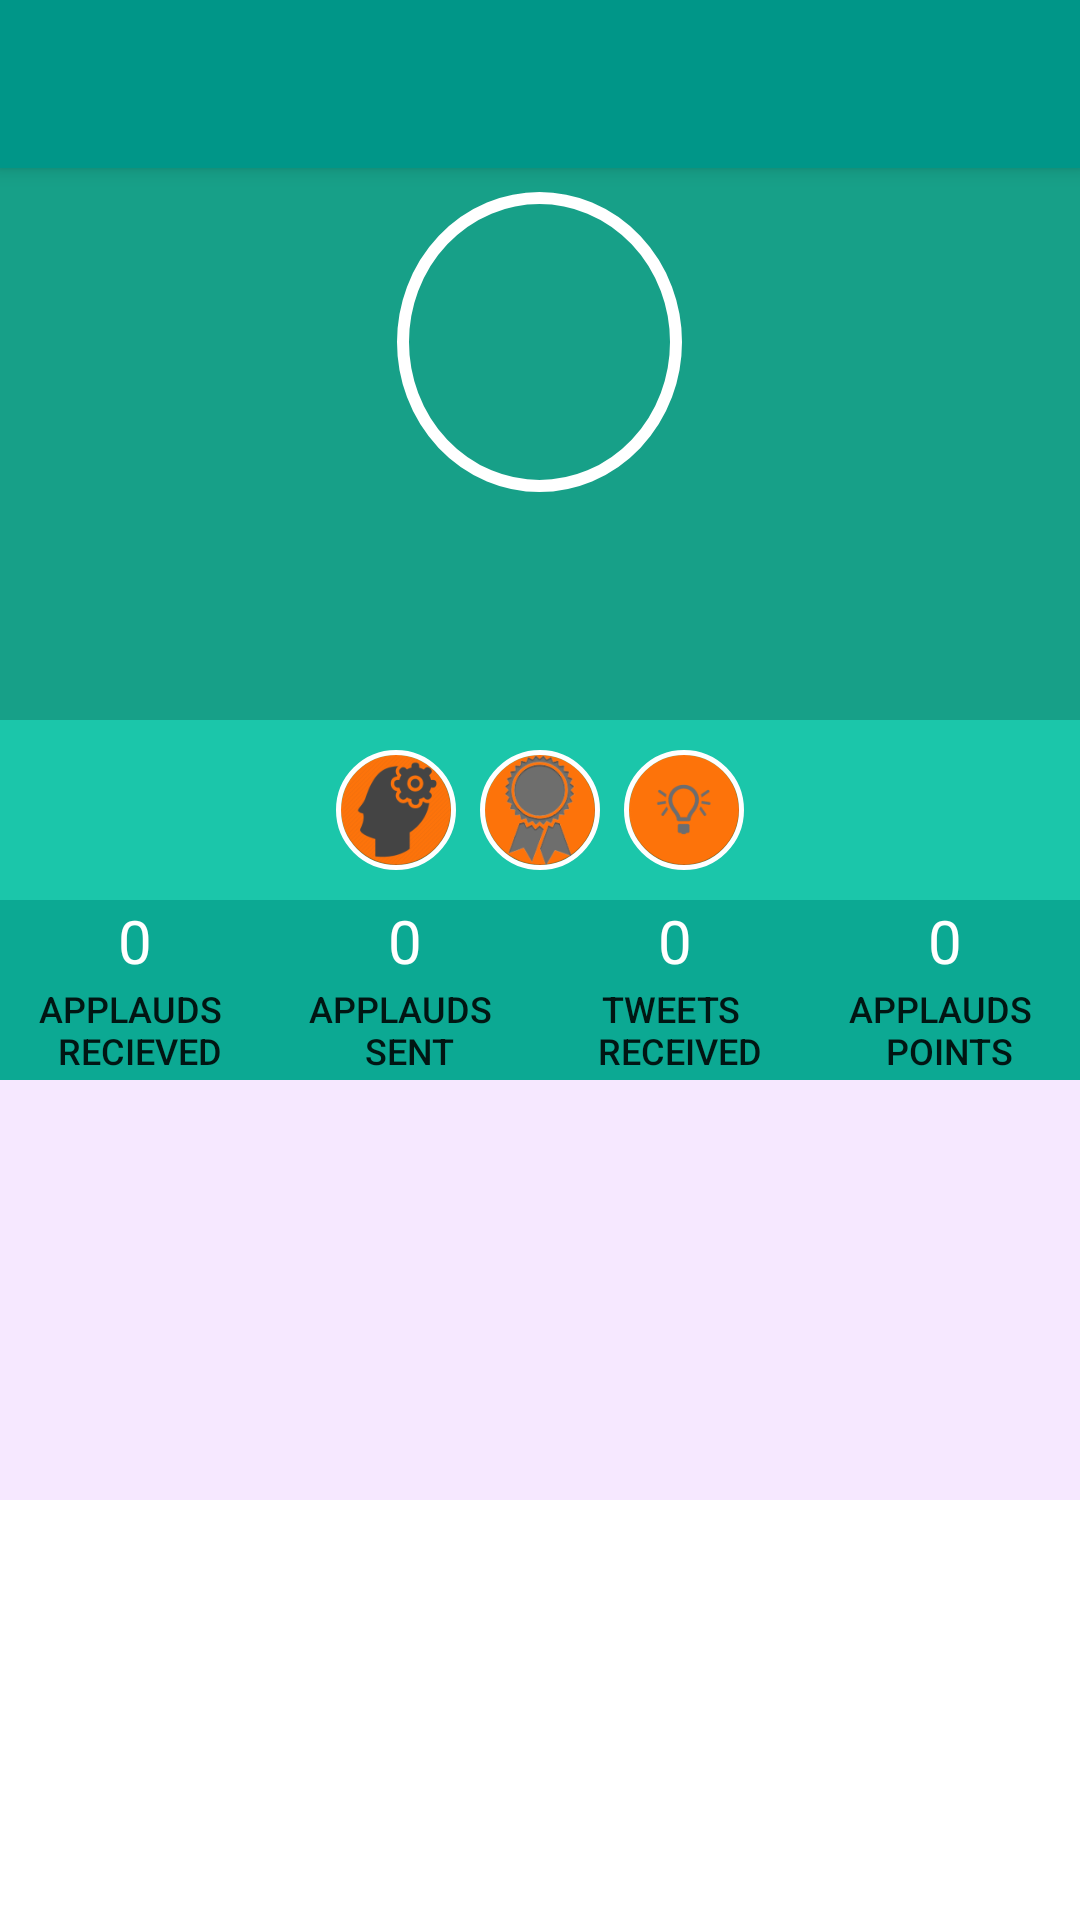

Icons on this 1080*1920 Android screen, each with its box as (x1, y1, x2, y2):
innov: (624, 750, 744, 870)
